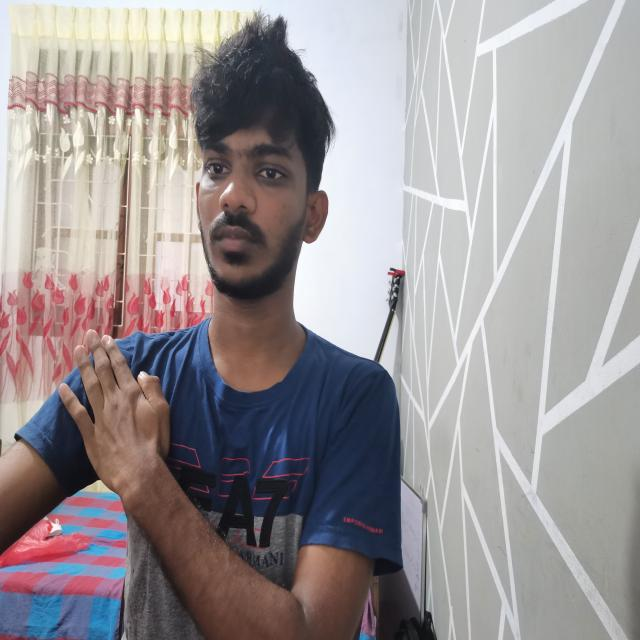Please: (54, 322, 405, 640)
